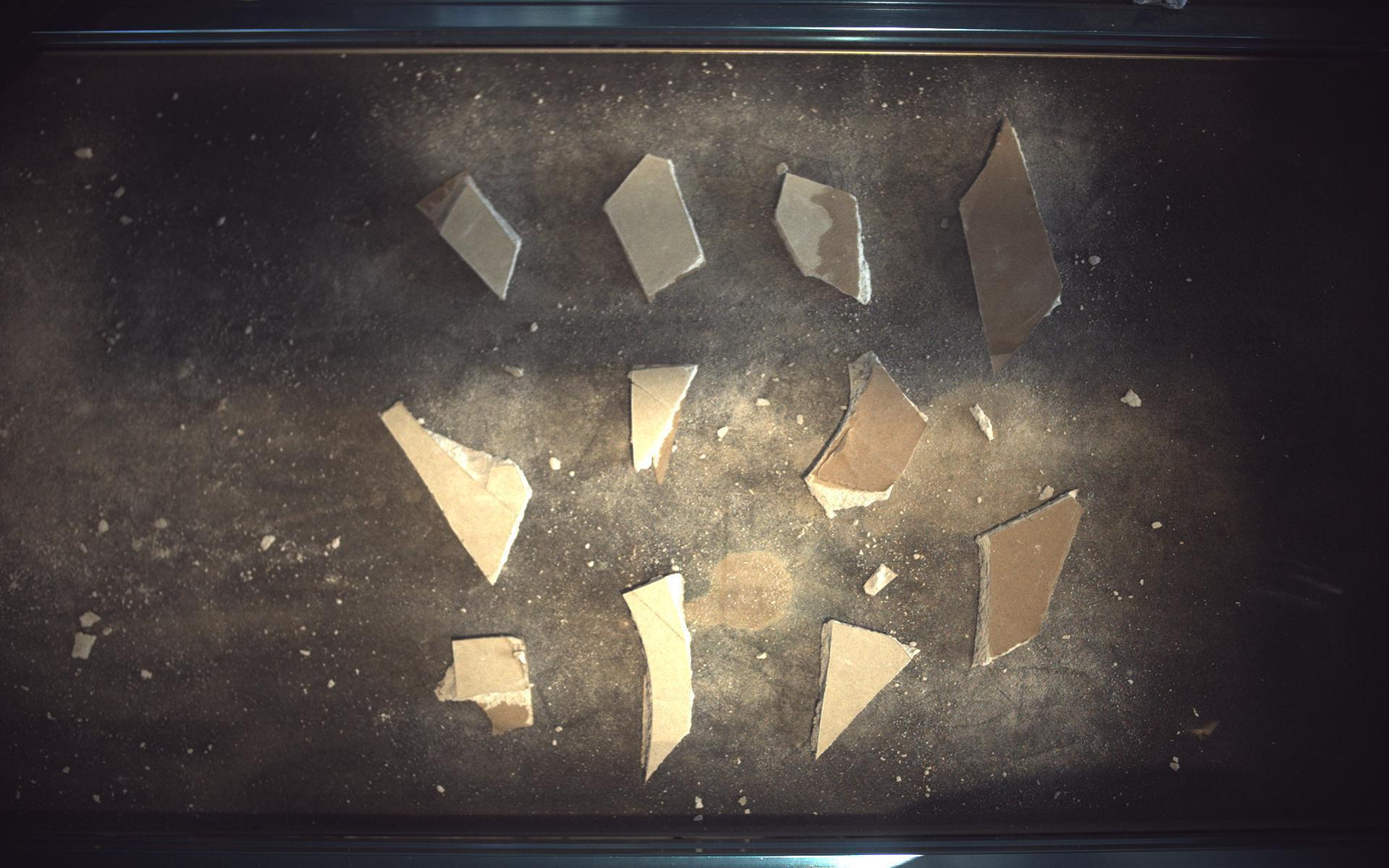gypsum_board: (381, 401, 532, 584), (961, 116, 1064, 371), (807, 351, 929, 519), (974, 490, 1086, 668), (812, 621, 921, 760), (604, 153, 706, 300), (624, 574, 694, 782), (776, 162, 873, 304), (417, 170, 522, 299), (436, 637, 534, 736), (629, 365, 698, 484)
